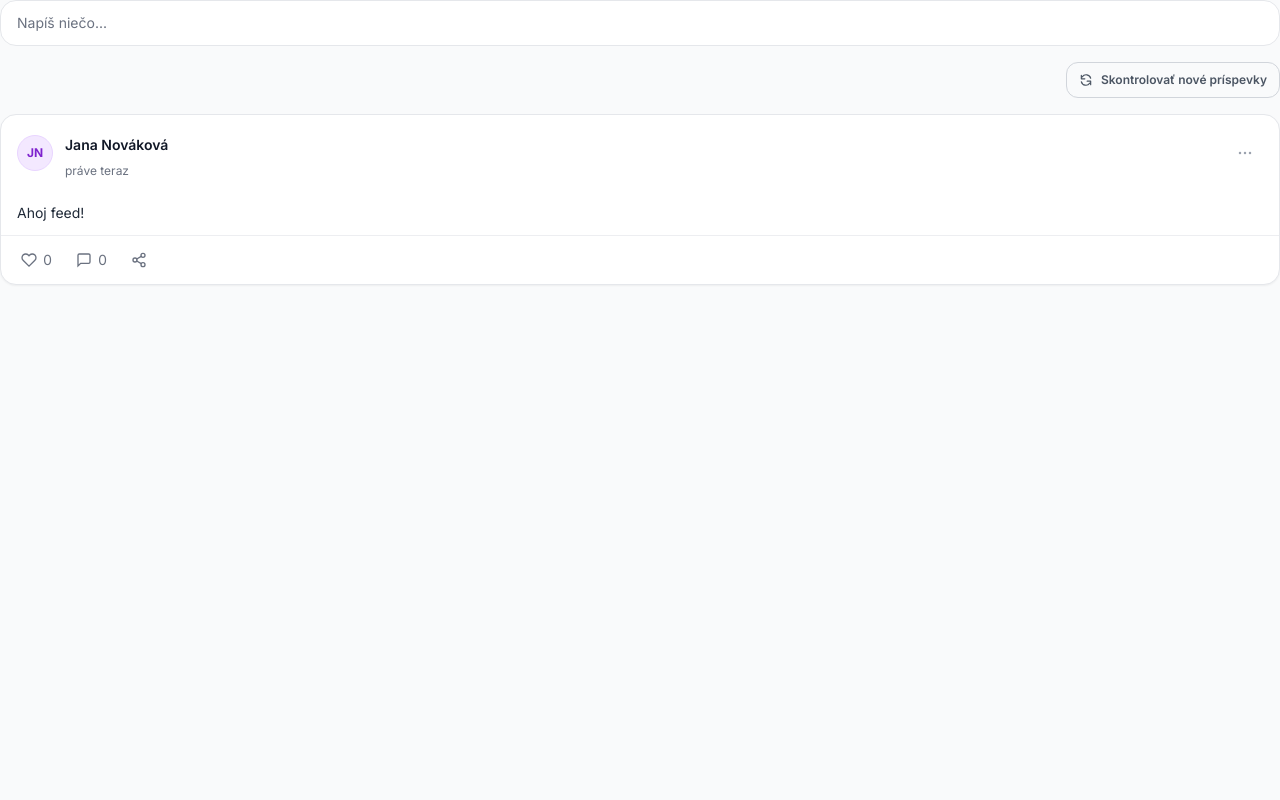
Test case: FeedList – composer na mobile vs. desktope › keeps the modal on desktop
The width and height of the screenshot is (1280, 800).
Expected: the element with test id "feed-list" is shown, [0,114,1279,285]
Click the button with test id "feed-composer-trigger". click: [62, 22]
box: [0,0,1279,46]
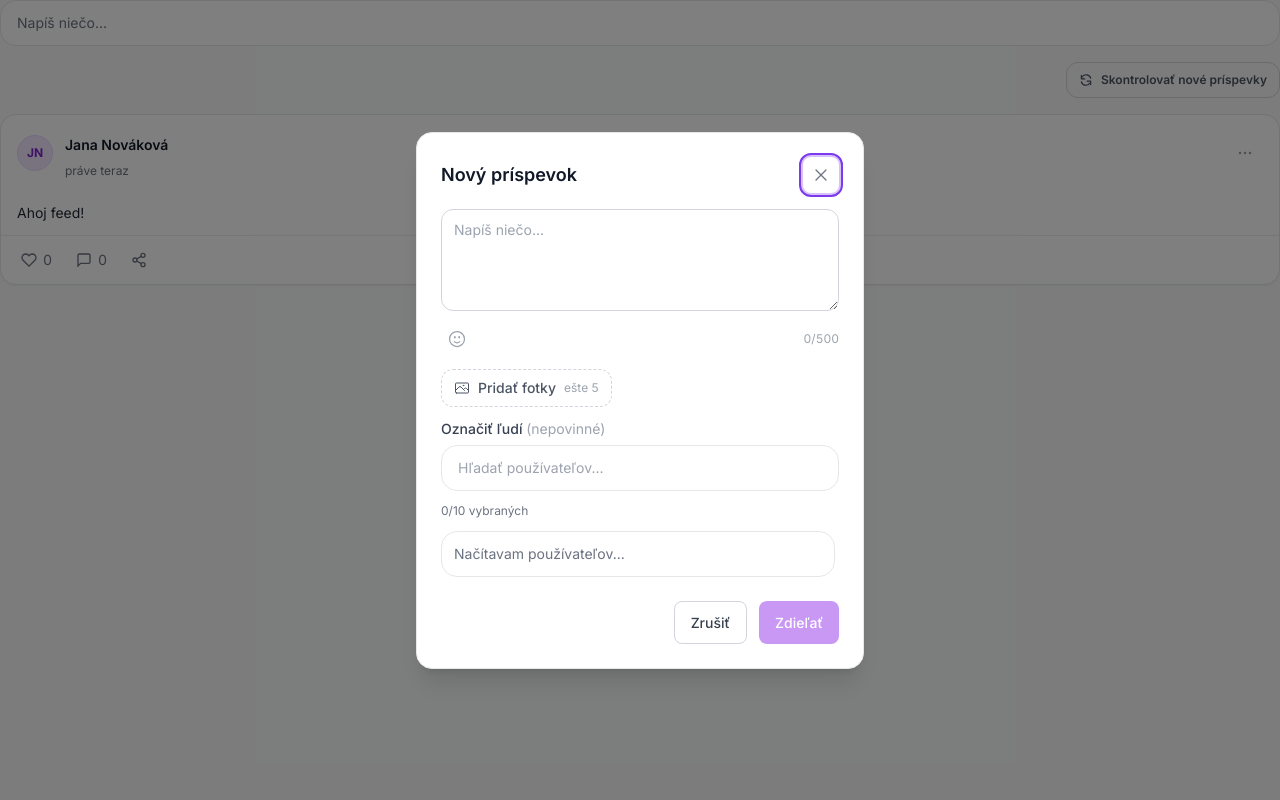
Result: the dialog with test id "feed-composer-modal" is shown
